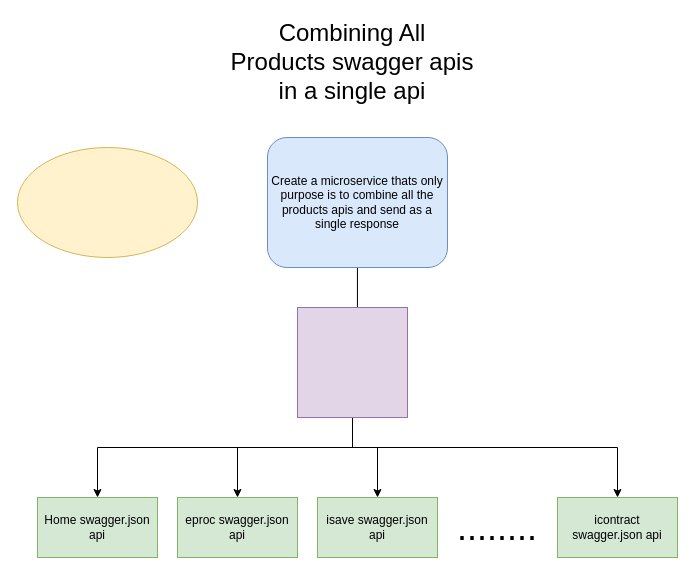
The diagram is 695 pixels wide and 575 high, and some of its shapes have lost their labels. The shapes that lost their labels are listed below. From the top down, each one's centre as x and y in pixels, then its label:
At [107,202]: "Requirement: 1. Enable swagger for all products in QC environment".
At [352,362]: "Call a BFF home api to get the list of products and call respective swagger apis".
